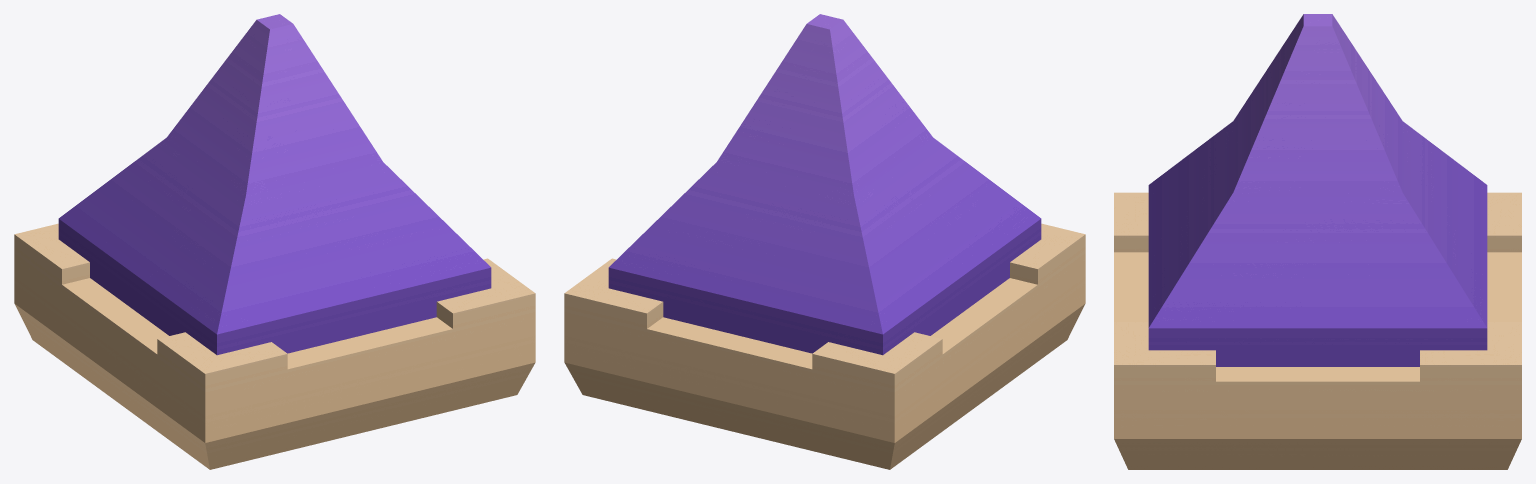
Rendered from tower-square-top-roof.glb.
3 views of the same model, side by side, from view 1: azimuth 30°, elevation 25°; view 2: azimuth 150°, elevation 25°; view 3: azimuth 270°, elevation 25° (orthographic). The views are drawn at different scales.
Parts seen in each view (by area): view 1: tower-square-top-roof; view 2: tower-square-top-roof; view 3: tower-square-top-roof.
Boxes of the visible parts, x1,y1,x2,y2 form: tower-square-top-roof: [14, 14, 535, 469]; tower-square-top-roof: [564, 14, 1085, 469]; tower-square-top-roof: [1114, 14, 1521, 469].
Size of the model in its own units: 1 by 1 by 1.
